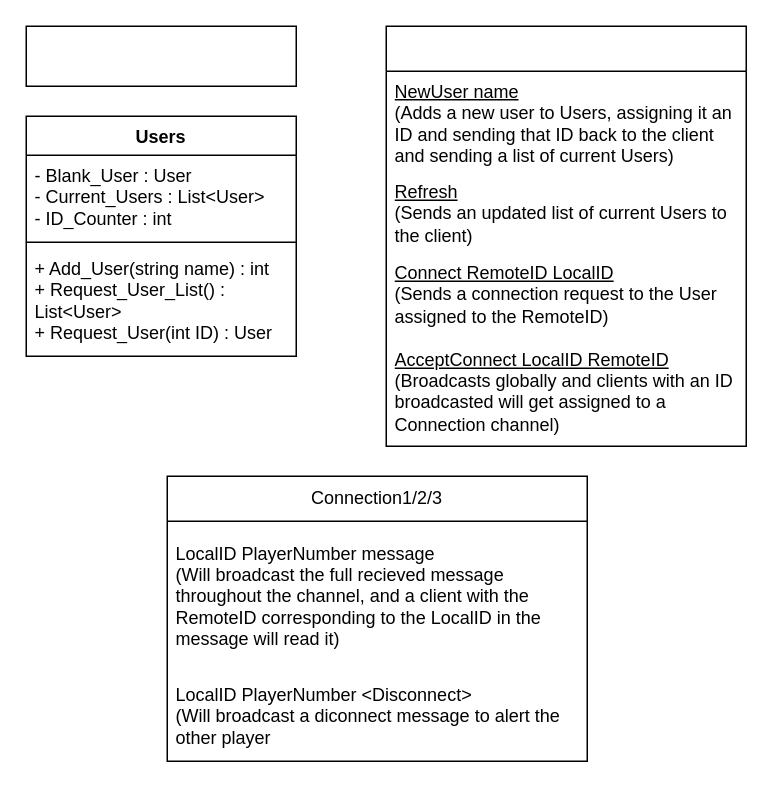
This 773x788 diagram has some shape labels left out. The box of each missing label's shape, as (x1, y1, x2, y2) in pixels:
Connect_To_User: (385, 25, 746, 446)
record User(int ID, string name, bool available): (25, 25, 296, 86)
